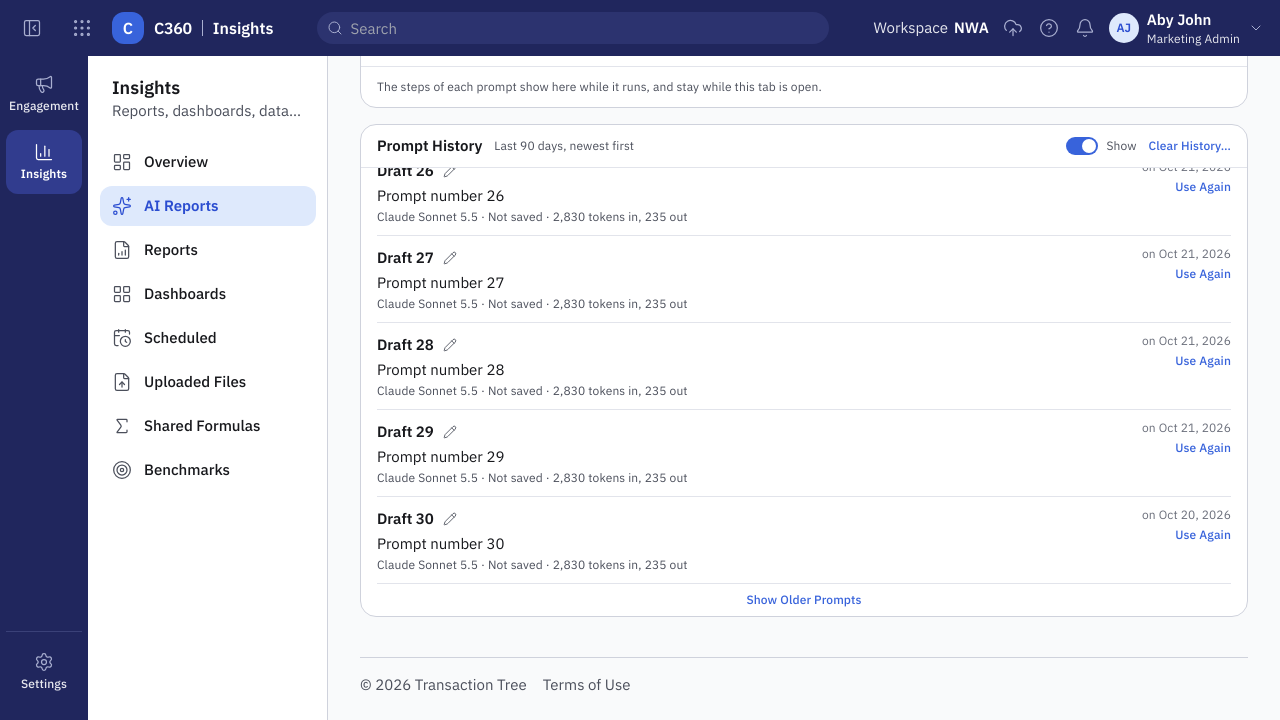
Prompt History: newest first, older prompts on demand, Use Again puts one back in the box, the pencil renames, Show hides the list
(page scrolled)
Click the button "Show Older Prompts" at (804, 600), box [746, 592, 862, 608]
(page scrolled)
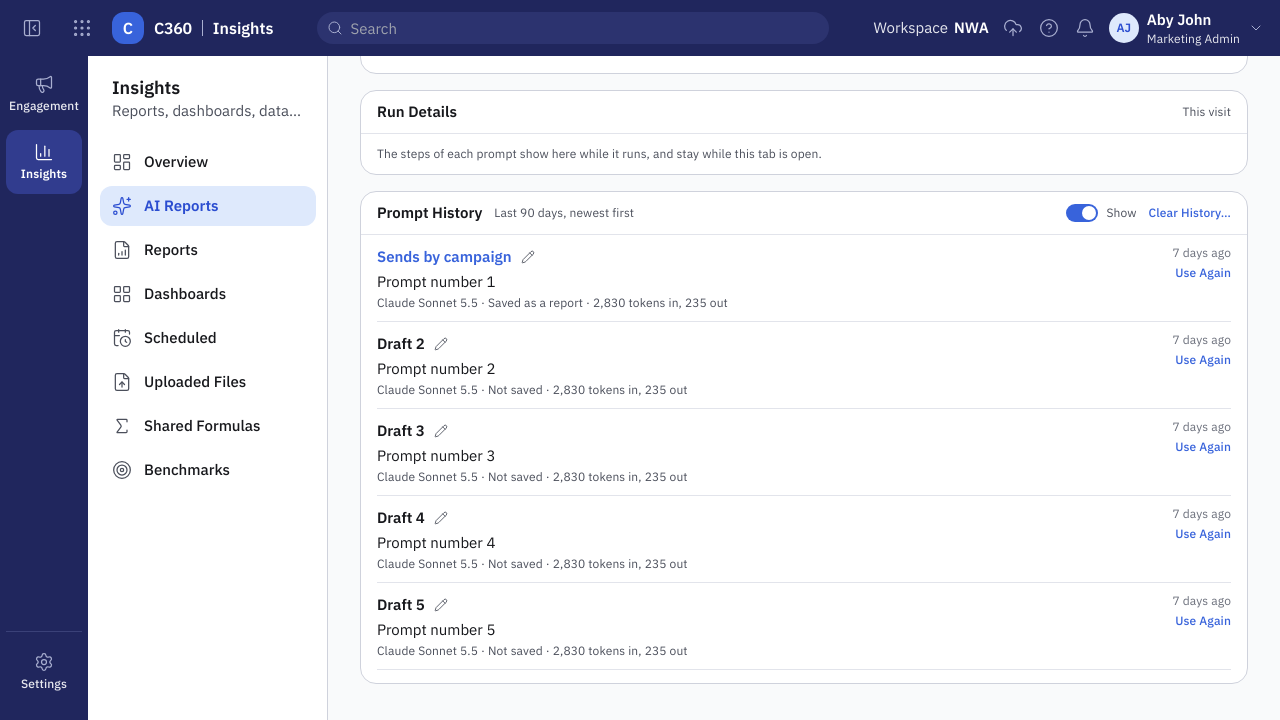
Click the button "Use Again" in the row of "Prompt number 2" at (1203, 360), box [1175, 352, 1231, 368]
(page scrolled)
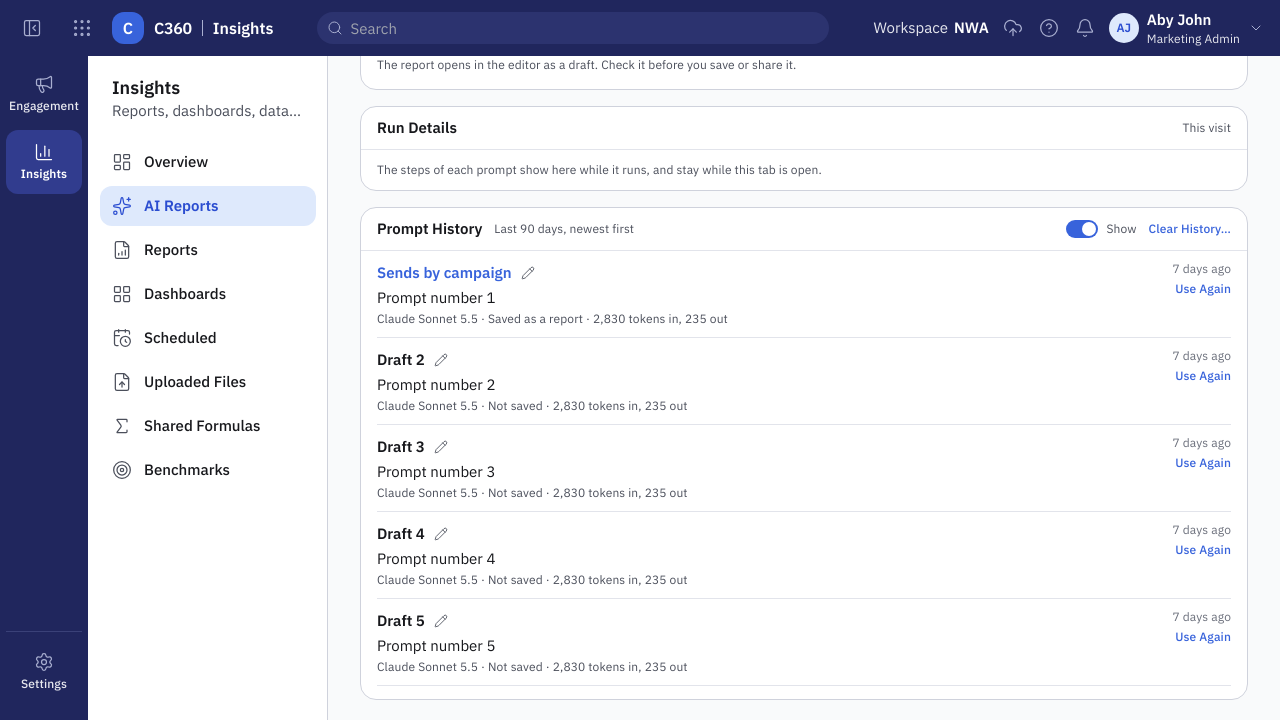
Click the button named "Rename Draft 2" at (441, 360), box [429, 348, 453, 372]
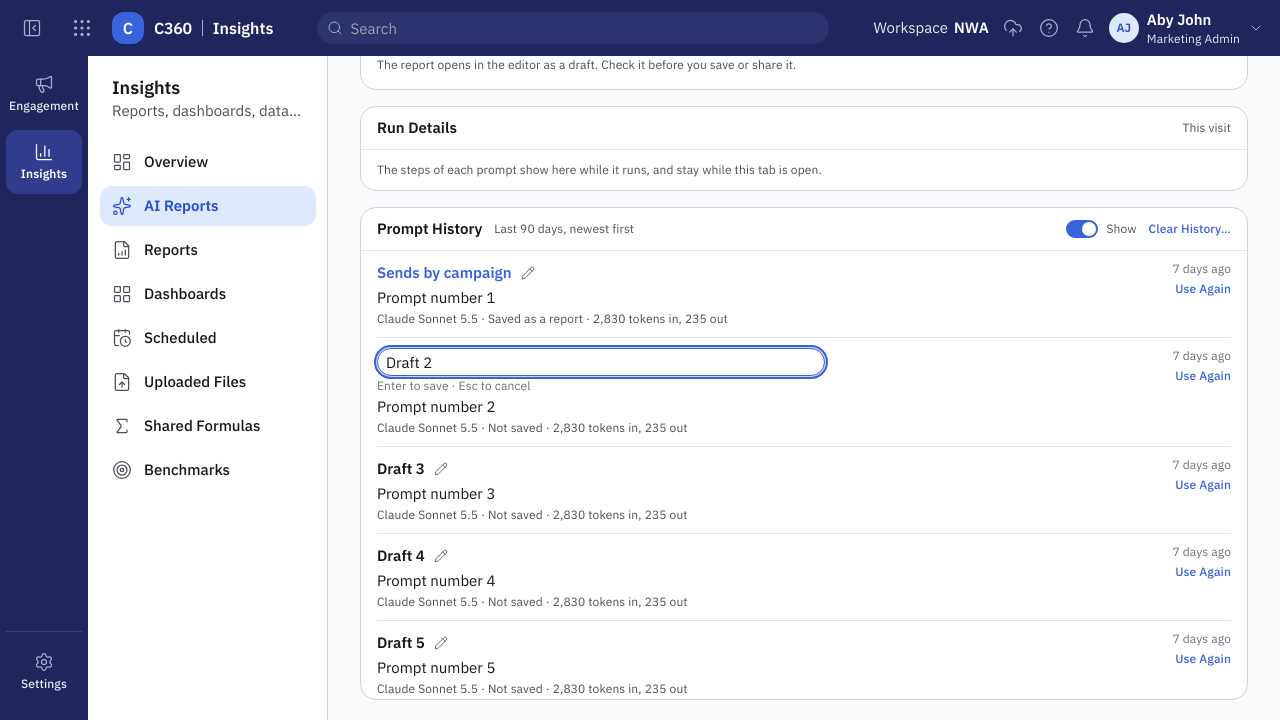
Replace the text in the field named "Report name" with "Weekly Delivery" at (601, 362), box [377, 348, 825, 376]
Then press Enter
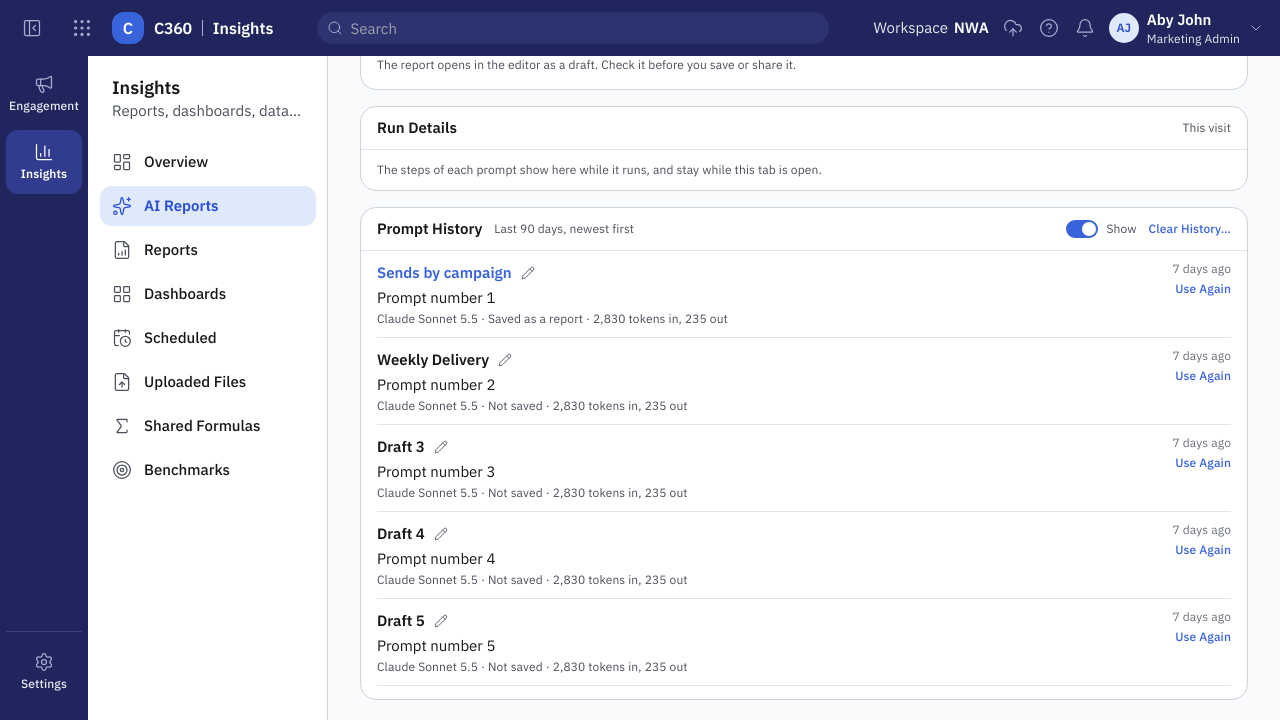
expect the text "Weekly Delivery" is shown: met, box [377, 349, 489, 371]
Click the switch named "Show Prompt History" at (1102, 229), box [1066, 220, 1137, 238]
(page scrolled)
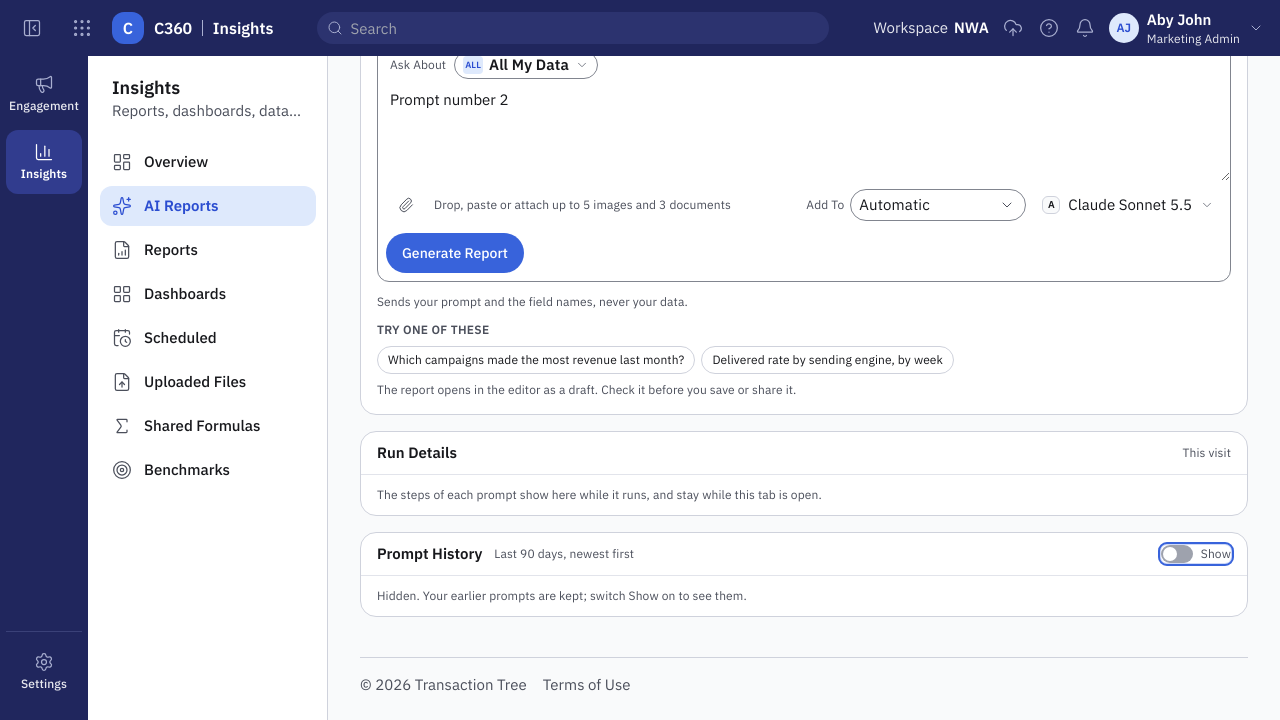
expect the text "Hidden. Your earlier prompts are kept" is shown: met, box [377, 588, 747, 603]
